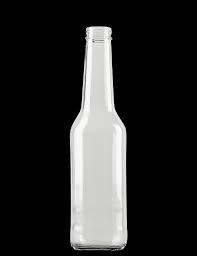Glass bottle: (61, 19, 139, 254)
